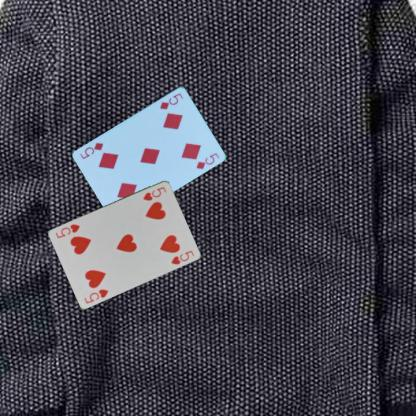5d: (157, 90, 184, 110)
5h: (81, 286, 110, 304), (140, 184, 168, 202)
